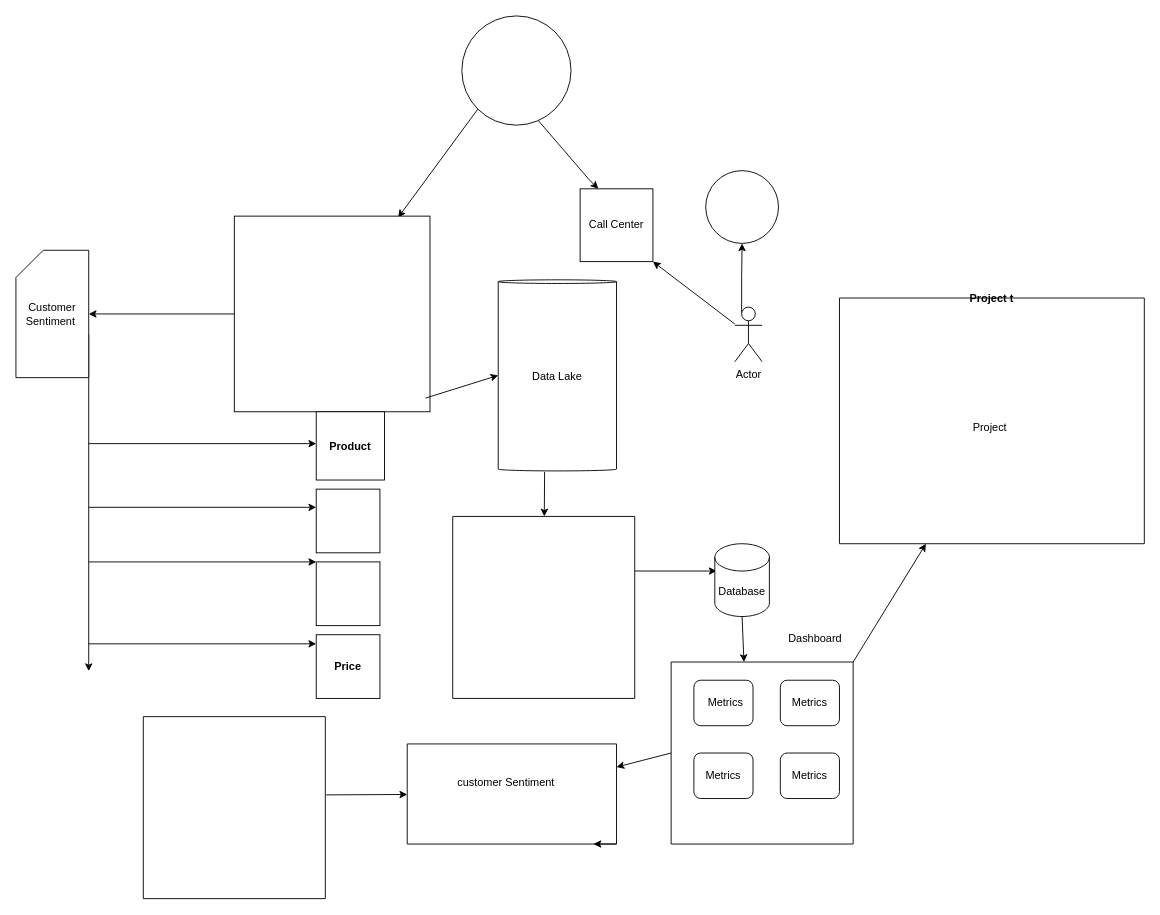
Some shapes in this 1160 by 915 pixel diagram are drawn without their labels. The centre of each missing label's shape, as x and y in pixels:
Artificial Intelligence: point 543,607
delivery: point 347,593
NPS: point 233,807
Service: point 347,520
Shop LC Website: point 331,313
Voice: point 742,206
Website: point 516,70
